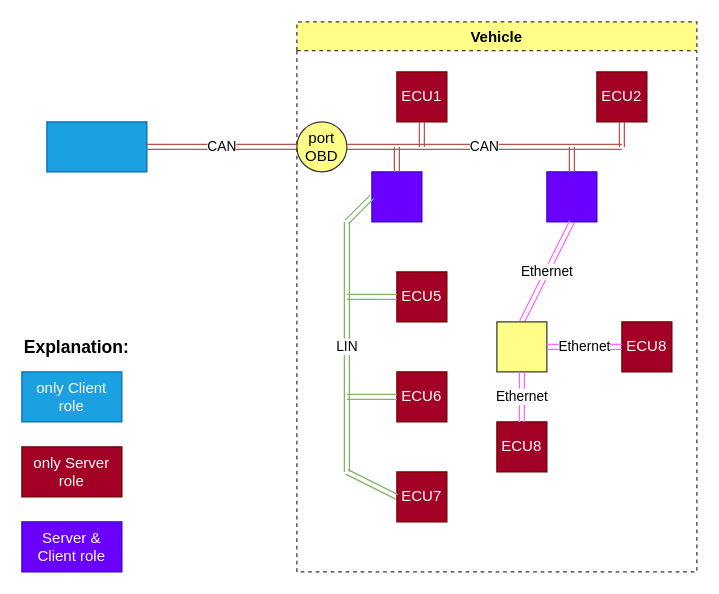
This 719x594 diagram has some shape labels left out. The centre of each missing label's shape, as x and y in pixels:
"Diagnostic Tester" belongs at point 96,146.
"ECU3" belongs at point 396,196.
"ECU4" belongs at point 571,196.
"Switch" belongs at point 521,346.
